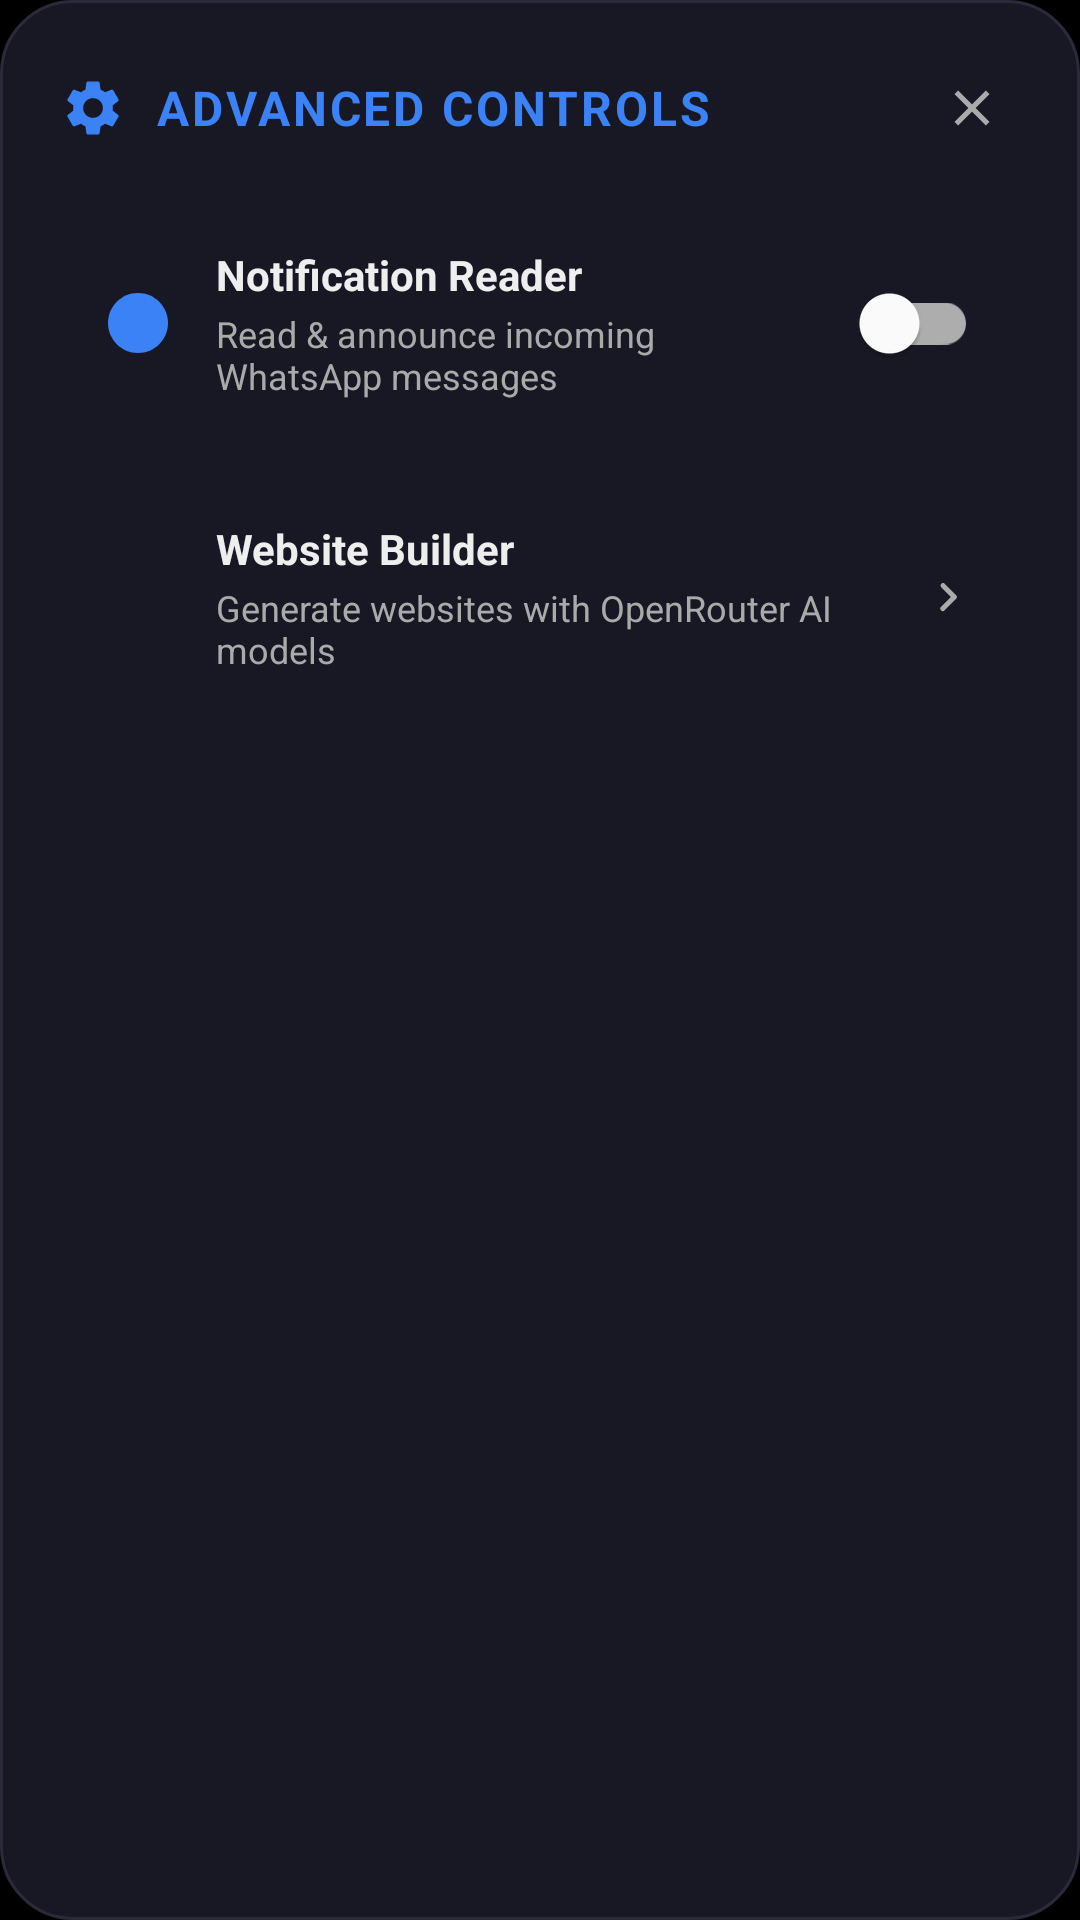

Locate icon controls on the screen. Image size 1080*1920, boxes as (x1, y1, x2, y2).
chevron right: (940, 583, 957, 612)
Close: (954, 90, 990, 126)
settings: (67, 81, 119, 135)
